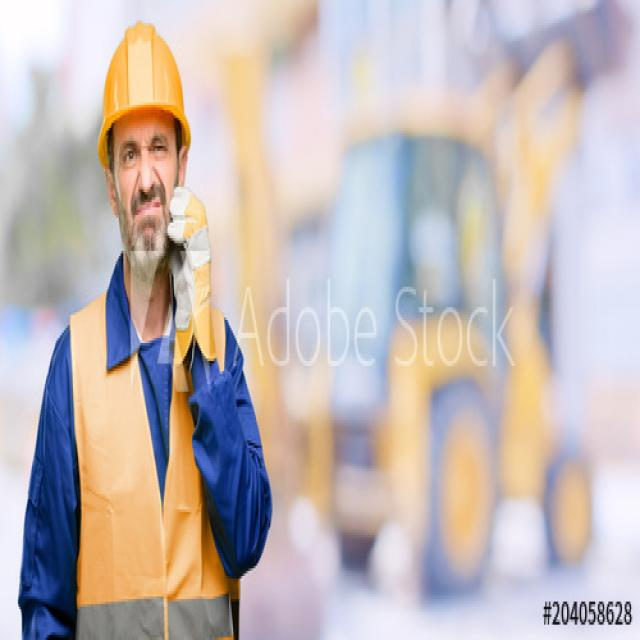Reflective-Jacket: (61, 286, 239, 640)
Safety-Helmet: (96, 18, 193, 156)
